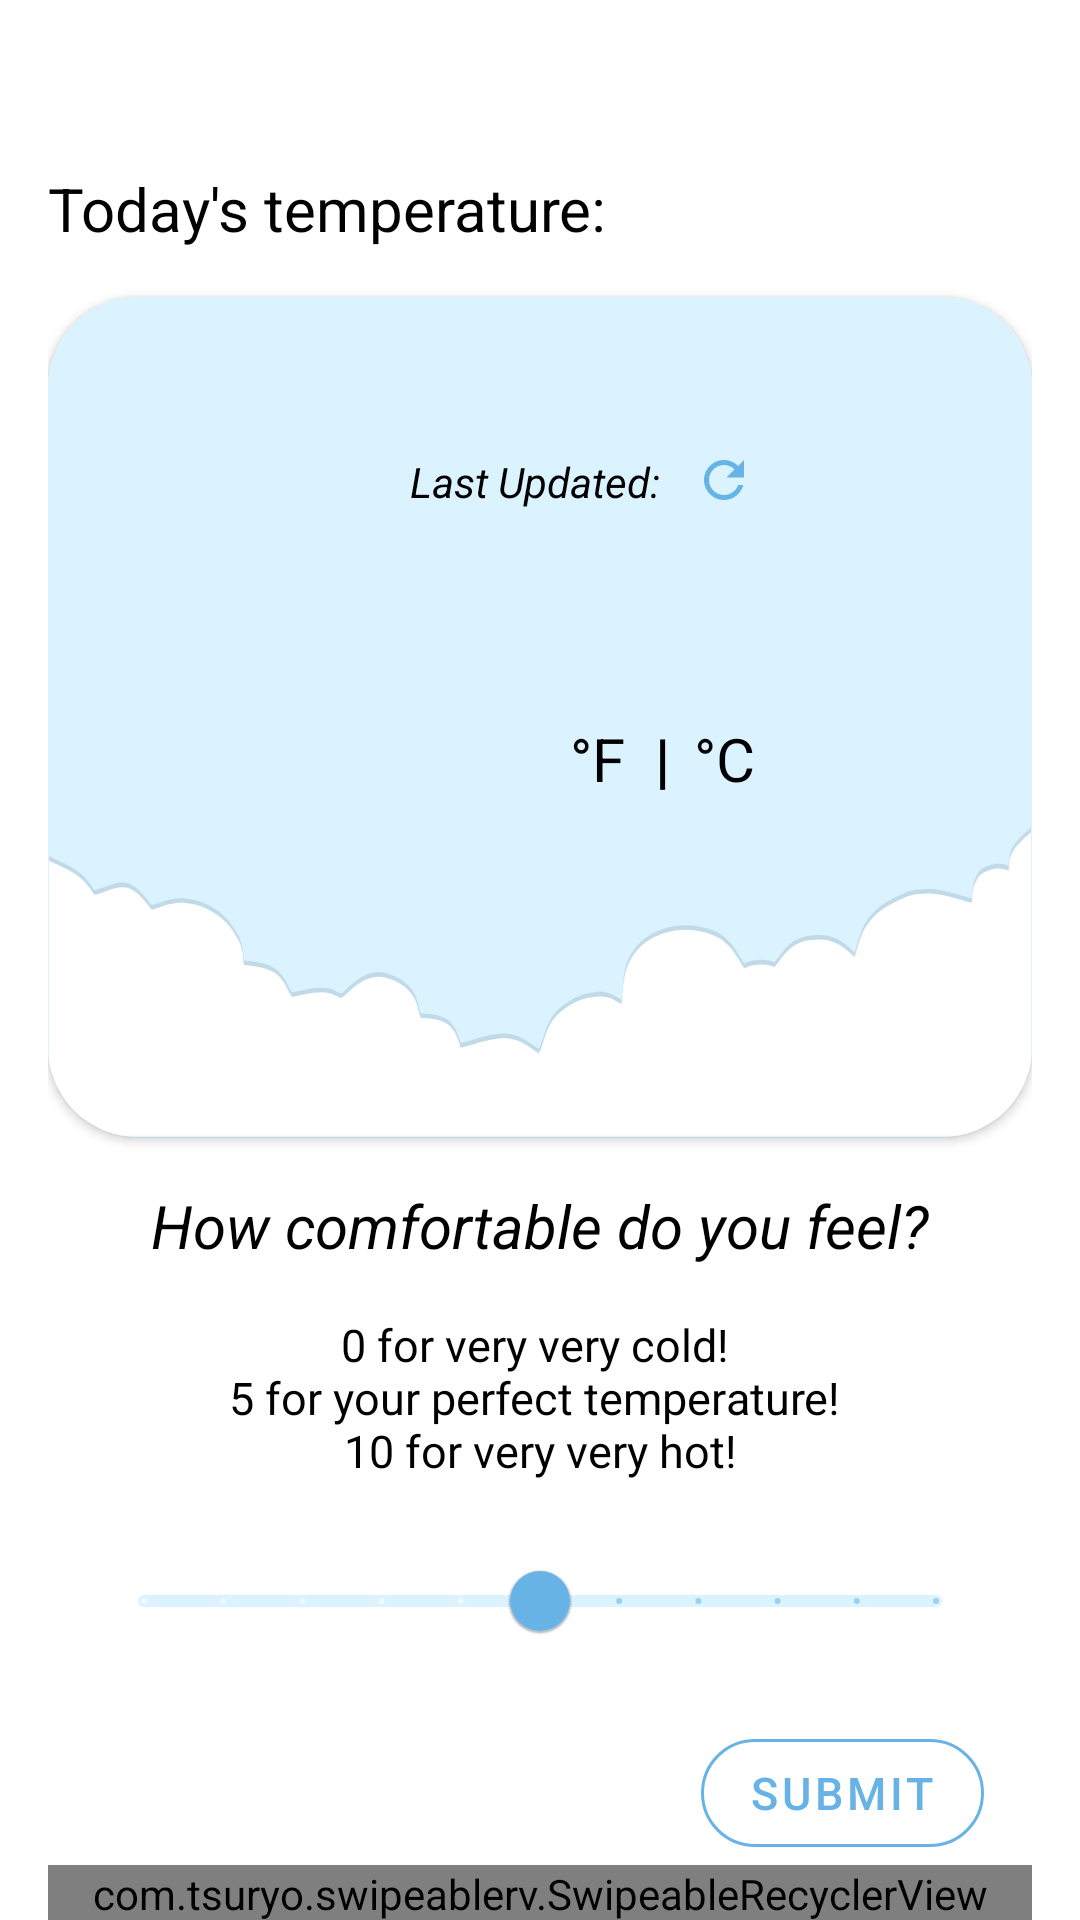

Where to tap for icons on this 1080x1920 app screen, as [x,y]:
refresh: [724,480]
